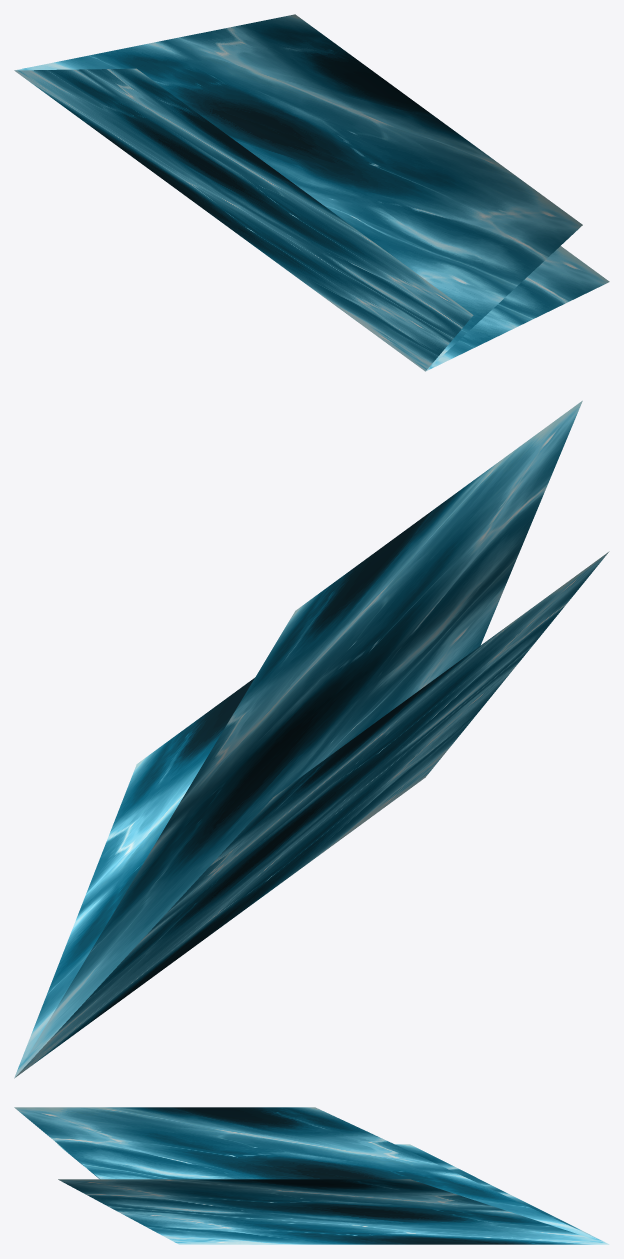
The model's file is zhexian.FBX.
3 renders of one model, top to bottom at view 1: azimuth 30°, elevation 25°; view 2: azimuth 150°, elevation 25°; view 3: azimuth 270°, elevation 25°, orthographic. The views are drawn at different scales.
Visible parts, largest first — view 1: Plane002; view 2: Plane002; view 3: Plane002.
Part boxes in pixels (box(x1,y1,x2,y2)): Plane002: box(14, 14, 609, 371); Plane002: box(14, 400, 609, 1078); Plane002: box(14, 1107, 609, 1244).
Size of the model in its own units: 41.05 by 75.35 by 297.
Materials: 1 (1 with a texture image).
